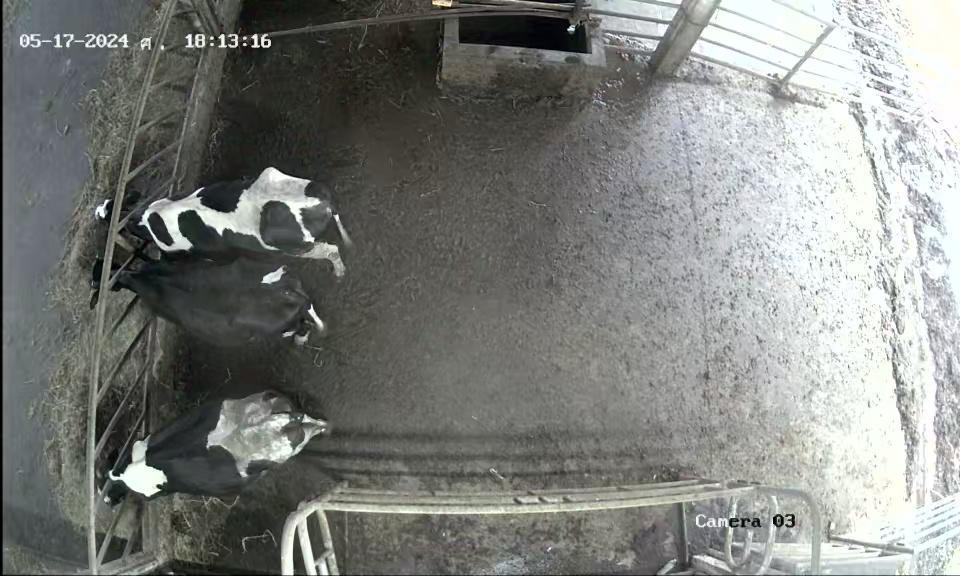eat: (78, 247, 181, 338), (63, 440, 173, 520), (82, 184, 187, 250)
